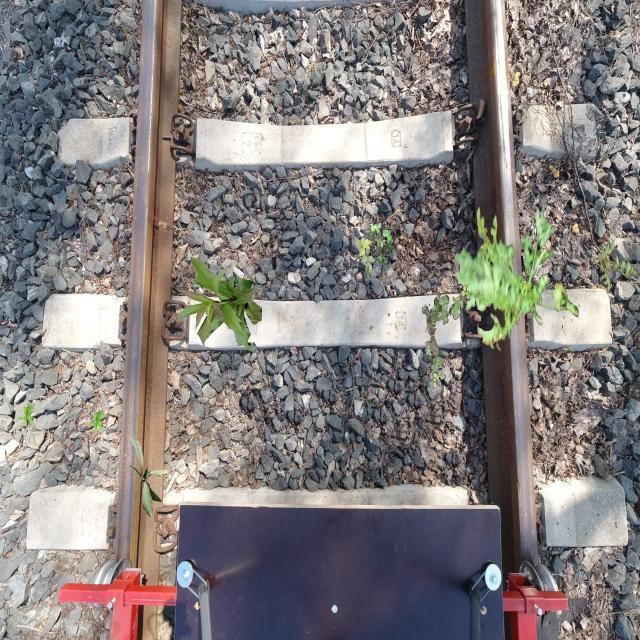Plant: (454, 205, 579, 352), (174, 256, 262, 354), (422, 285, 470, 388), (129, 435, 169, 518), (596, 240, 638, 294), (357, 220, 394, 275), (17, 403, 34, 427), (87, 410, 104, 434)
